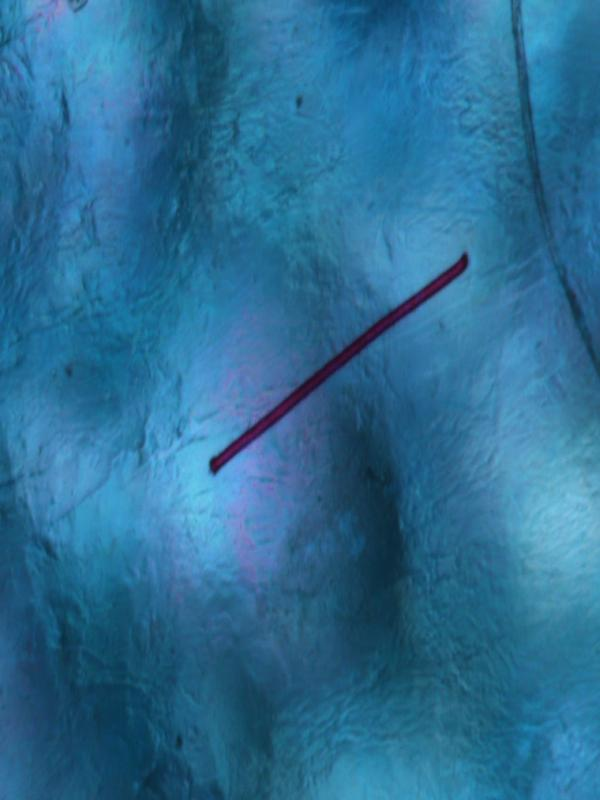microplastic: (209, 251, 470, 479)
